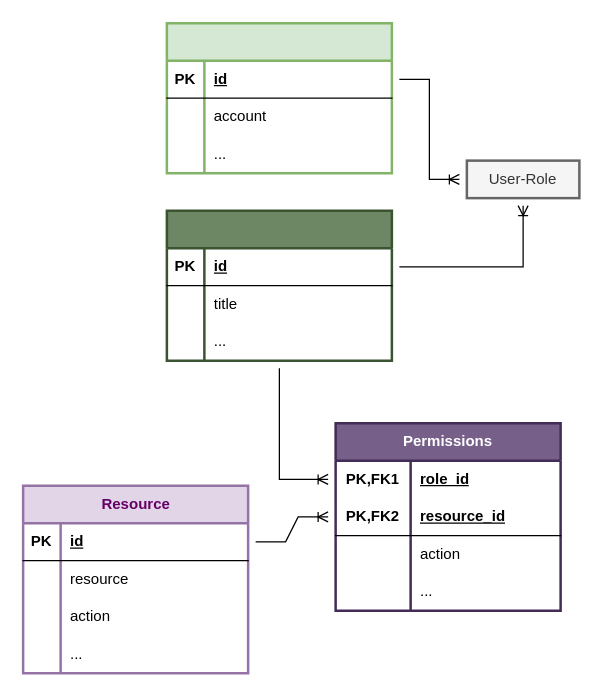
Some shapes in this 601 by 695 pixel diagram are drawn without their labels. The box of each missing label's shape, as (x1, y1, x2, y2) in pixels:
Roles: (165, 209, 392, 361)
Users: (165, 21, 392, 174)
